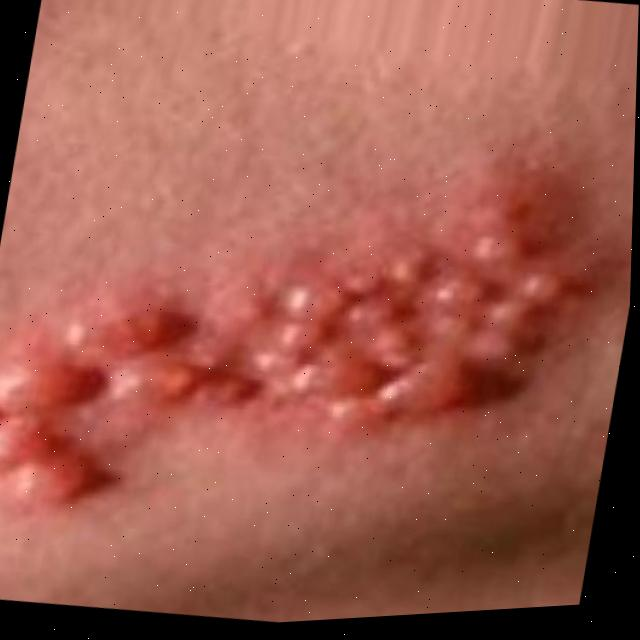Shingles: (0, 135, 616, 592)
